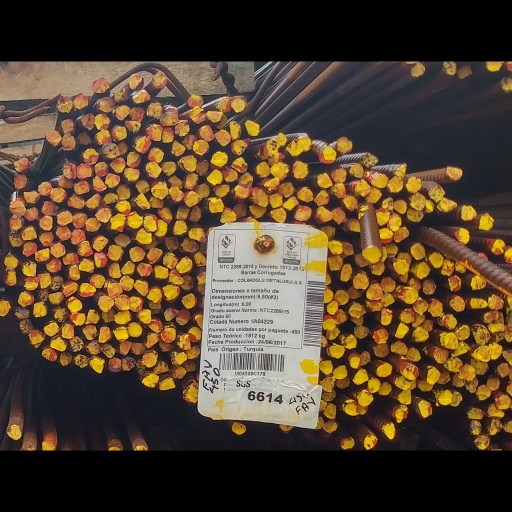dipstick: (184, 105, 207, 124), (362, 245, 383, 264), (471, 323, 489, 345), (27, 329, 46, 349), (5, 423, 25, 442), (294, 203, 313, 223), (90, 77, 111, 95), (182, 380, 197, 405), (437, 331, 459, 348), (127, 73, 146, 92), (144, 161, 163, 180), (407, 241, 426, 260), (470, 357, 489, 376), (151, 71, 169, 91), (95, 129, 115, 147), (145, 101, 163, 121), (228, 94, 246, 114), (133, 135, 151, 155), (6, 198, 26, 216), (270, 161, 288, 181), (355, 388, 375, 406), (427, 183, 445, 203), (47, 335, 68, 352), (179, 236, 200, 253), (182, 189, 203, 206), (352, 270, 369, 291), (440, 313, 461, 330), (416, 397, 432, 419), (54, 94, 72, 113), (108, 155, 126, 174), (114, 198, 132, 217), (84, 192, 102, 211), (170, 348, 188, 367), (162, 283, 181, 301), (335, 136, 353, 155), (291, 160, 310, 178), (352, 179, 371, 197), (330, 206, 349, 224), (427, 251, 445, 270), (460, 203, 478, 222), (408, 191, 427, 209), (72, 92, 89, 112), (91, 113, 111, 130), (159, 110, 179, 127), (145, 124, 165, 141), (66, 193, 86, 210), (151, 179, 168, 199), (177, 155, 197, 172), (360, 150, 380, 167), (388, 338, 408, 355), (494, 390, 511, 410), (471, 344, 491, 361), (449, 341, 473, 355), (129, 89, 151, 104), (111, 310, 133, 325), (181, 134, 199, 152), (2, 253, 20, 271), (88, 355, 106, 373), (112, 324, 130, 342), (348, 300, 366, 318), (458, 362, 476, 380), (65, 262, 82, 281), (140, 371, 159, 388), (107, 244, 124, 263), (315, 206, 334, 223), (365, 282, 384, 299), (400, 362, 419, 379), (472, 432, 491, 449), (476, 211, 493, 230), (186, 92, 206, 108), (61, 160, 77, 180), (16, 319, 36, 335), (186, 226, 206, 242), (254, 158, 270, 178), (374, 361, 394, 377), (411, 261, 431, 277), (438, 62, 458, 78), (111, 87, 132, 102), (122, 118, 143, 133), (410, 326, 431, 341), (388, 209, 402, 231), (44, 129, 62, 146), (114, 104, 132, 121), (129, 107, 147, 124), (243, 119, 260, 137), (214, 128, 231, 146), (146, 146, 164, 163), (126, 151, 144, 168), (102, 142, 120, 159), (49, 185, 66, 203), (92, 234, 109, 252), (93, 251, 110, 269), (160, 252, 178, 269), (145, 285, 162, 303), (210, 150, 228, 167), (251, 189, 268, 207), (330, 165, 347, 183), (326, 254, 344, 271), (340, 333, 358, 350), (351, 367, 369, 384), (342, 398, 360, 415), (380, 422, 397, 440), (392, 404, 410, 421), (400, 286, 418, 303), (398, 307, 416, 324), (395, 388, 413, 405), (405, 175, 422, 193), (409, 62, 427, 79), (214, 95, 230, 114), (40, 200, 59, 216), (65, 297, 84, 313), (68, 335, 84, 354), (230, 157, 249, 173), (319, 145, 335, 164), (313, 187, 329, 206), (314, 171, 333, 187), (473, 384, 492, 400), (487, 417, 503, 436), (469, 274, 488, 290), (490, 237, 506, 256), (375, 207, 391, 226), (376, 227, 395, 243), (95, 97, 115, 112), (157, 376, 177, 391), (179, 292, 199, 307), (13, 172, 30, 189), (37, 214, 54, 231), (95, 206, 112, 223), (72, 212, 89, 229), (37, 231, 54, 248), (175, 308, 192, 325), (168, 185, 185, 202), (387, 175, 404, 192), (372, 327, 389, 344), (435, 389, 452, 406), (366, 187, 383, 204), (392, 226, 409, 243), (458, 64, 475, 81), (58, 118, 76, 134), (75, 131, 93, 147), (198, 124, 214, 142), (191, 139, 209, 155), (160, 126, 176, 144), (76, 163, 94, 179), (36, 181, 54, 197), (6, 215, 24, 231), (134, 192, 150, 210), (175, 333, 191, 351), (206, 197, 224, 213), (279, 181, 297, 197), (370, 171, 388, 187), (330, 183, 348, 199), (320, 224, 338, 240), (427, 299, 443, 317), (488, 293, 504, 311), (445, 165, 463, 181), (102, 192, 121, 207), (84, 217, 103, 232), (16, 290, 35, 305), (47, 290, 66, 305), (379, 308, 394, 327), (394, 320, 409, 339), (167, 365, 187, 379), (187, 203, 201, 223), (248, 204, 268, 218), (52, 307, 73, 320), (339, 262, 352, 283), (468, 297, 489, 310), (79, 114, 96, 130), (110, 125, 126, 142), (170, 139, 186, 156), (161, 160, 178, 176), (13, 157, 30, 173), (116, 184, 132, 201), (32, 301, 49, 317), (78, 240, 94, 257), (79, 257, 95, 274), (89, 273, 106, 289), (41, 346, 58, 362), (72, 352, 89, 368), (129, 340, 146, 356), (141, 350, 157, 367), (106, 280, 123, 296), (129, 245, 145, 262), (135, 261, 151, 278), (146, 247, 162, 264), (153, 263, 170, 279), (180, 274, 196, 291), (135, 228, 152, 244), (156, 206, 173, 222), (186, 326, 202, 343), (232, 139, 249, 155), (234, 184, 250, 201), (348, 162, 365, 178), (454, 323, 471, 339), (448, 294, 464, 311), (439, 259, 455, 276), (453, 228, 470, 244), (494, 361, 510, 378), (206, 109, 224, 124), (77, 282, 95, 297), (86, 307, 101, 325), (60, 322, 75, 340), (43, 321, 61, 336), (84, 340, 102, 355), (98, 343, 116, 358), (121, 355, 136, 373), (126, 322, 144, 337), (114, 293, 129, 311), (146, 318, 164, 333), (182, 345, 200, 360), (206, 169, 224, 184), (326, 343, 344, 358), (380, 275, 395, 293), (413, 296, 428, 314), (426, 367, 441, 385), (444, 356, 462, 371), (436, 366, 451, 384), (61, 281, 80, 295), (143, 213, 157, 232), (211, 184, 230, 198), (218, 209, 237, 223), (371, 343, 390, 357), (407, 207, 426, 221), (437, 198, 457, 211), (82, 148, 98, 164), (55, 225, 71, 241), (2, 271, 18, 287), (176, 256, 192, 272), (161, 326, 177, 342), (172, 219, 188, 235), (333, 288, 349, 304), (422, 278, 438, 294), (94, 161, 109, 178), (50, 242, 67, 257), (22, 260, 37, 277), (45, 258, 62, 273), (96, 294, 113, 309), (100, 308, 117, 323), (113, 232, 130, 247), (133, 280, 148, 297), (128, 295, 143, 312), (144, 333, 161, 348), (194, 183, 211, 198), (231, 203, 248, 218), (221, 166, 238, 181), (262, 177, 279, 192), (332, 364, 349, 379), (339, 435, 356, 450), (322, 402, 337, 419), (394, 375, 411, 390), (433, 348, 450, 363), (485, 373, 500, 390), (447, 275, 462, 292), (452, 257, 467, 274), (58, 175, 76, 189), (122, 167, 140, 181), (57, 211, 75, 225), (35, 287, 53, 301), (13, 305, 31, 319), (153, 359, 171, 373), (269, 209, 287, 223), (348, 285, 366, 299), (365, 298, 383, 312), (21, 190, 40, 203), (98, 325, 111, 344), (174, 121, 190, 136), (105, 172, 120, 188), (21, 225, 37, 240), (134, 179, 150, 194), (70, 229, 86, 244), (22, 242, 38, 257), (8, 232, 24, 247), (22, 275, 38, 290), (36, 272, 51, 288), (69, 311, 85, 326), (58, 350, 73, 366), (107, 357, 122, 373), (82, 324, 98, 339), (163, 306, 179, 321), (164, 236, 180, 251), (110, 213, 125, 229), (127, 212, 143, 227), (174, 204, 190, 219), (184, 172, 200, 187), (269, 193, 285, 208), (298, 186, 313, 202), (390, 162, 406, 177), (319, 377, 335, 392), (464, 377, 479, 393), (489, 343, 504, 359), (393, 198, 408, 214), (116, 140, 130, 157), (74, 180, 91, 194), (34, 247, 51, 261), (108, 262, 122, 279), (119, 260, 136, 274), (120, 275, 134, 292), (166, 174, 183, 188), (229, 421, 246, 435), (236, 172, 253, 186), (354, 250, 368, 267), (362, 432, 376, 449), (407, 345, 421, 362), (466, 405, 483, 419), (487, 402, 504, 416), (228, 121, 241, 139), (342, 240, 355, 258), (324, 328, 342, 341), (483, 62, 504, 73), (168, 269, 183, 284), (384, 243, 399, 258), (394, 258, 409, 273), (324, 419, 339, 434), (50, 275, 64, 291), (263, 141, 279, 155), (343, 195, 357, 211), (348, 353, 362, 369), (468, 419, 482, 435), (452, 371, 466, 387), (157, 338, 174, 351), (181, 359, 198, 372), (287, 138, 300, 155), (62, 252, 80, 264), (277, 422, 295, 434), (488, 320, 506, 332), (25, 207, 40, 221), (137, 308, 152, 322), (192, 250, 206, 265), (196, 160, 210, 175), (332, 309, 347, 323), (378, 381, 393, 395), (412, 312, 426, 327), (347, 217, 361, 232), (156, 218, 167, 237), (38, 439, 57, 450), (0, 299, 11, 318), (302, 133, 313, 152), (322, 317, 338, 330), (499, 76, 512, 92), (353, 325, 370, 337), (482, 309, 499, 321), (451, 389, 462, 407), (148, 301, 163, 314), (284, 196, 299, 209), (320, 360, 333, 375), (382, 291, 395, 306), (408, 276, 421, 291), (119, 339, 131, 355), (336, 377, 352, 389), (418, 379, 434, 391), (489, 331, 505, 343), (325, 300, 338, 314), (274, 131, 286, 146), (327, 240, 342, 252), (361, 349, 371, 367), (368, 376, 380, 391), (195, 267, 205, 284), (372, 262, 385, 275), (382, 197, 394, 211), (149, 196, 164, 207), (314, 415, 325, 430), (501, 349, 512, 364), (324, 287, 334, 303), (321, 390, 337, 400), (194, 311, 203, 328), (421, 319, 433, 331), (318, 399, 328, 413), (424, 199, 434, 213), (504, 246, 512, 262), (320, 334, 328, 347)
